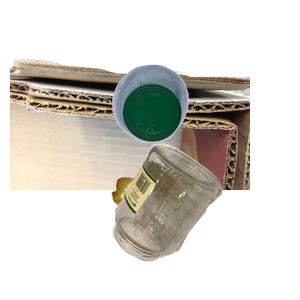cardboard: (10, 57, 250, 237)
glass: (110, 141, 300, 300)
plastic: (110, 62, 300, 198)
trash: (109, 175, 279, 300)
